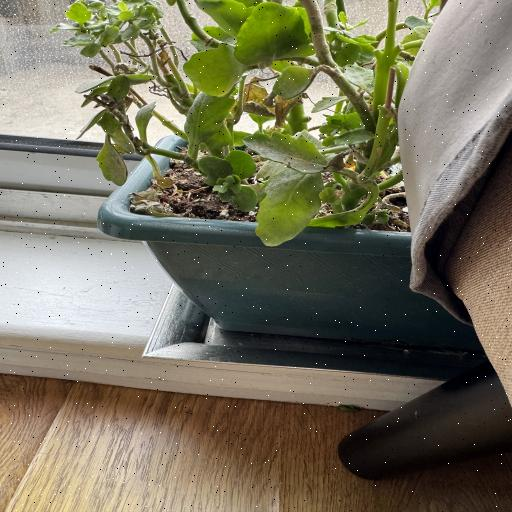Plant Pot: (96, 126, 464, 352)
